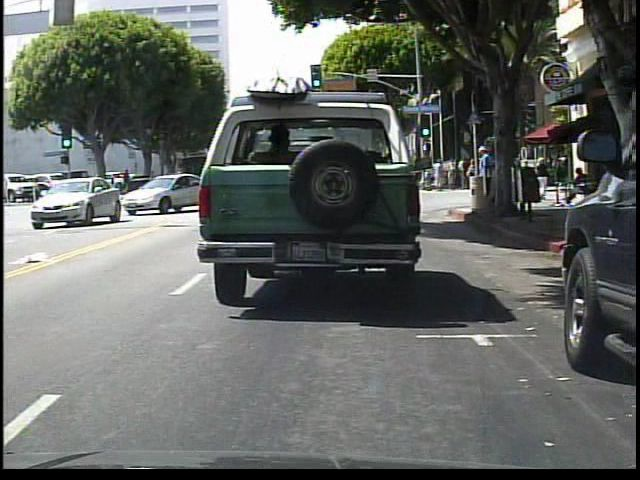person: (563, 165, 597, 209), (504, 152, 521, 218), (479, 145, 495, 206), (467, 157, 480, 203), (538, 157, 550, 200), (527, 165, 539, 202), (434, 158, 446, 191), (447, 157, 458, 190), (462, 157, 471, 190), (424, 165, 434, 192)
